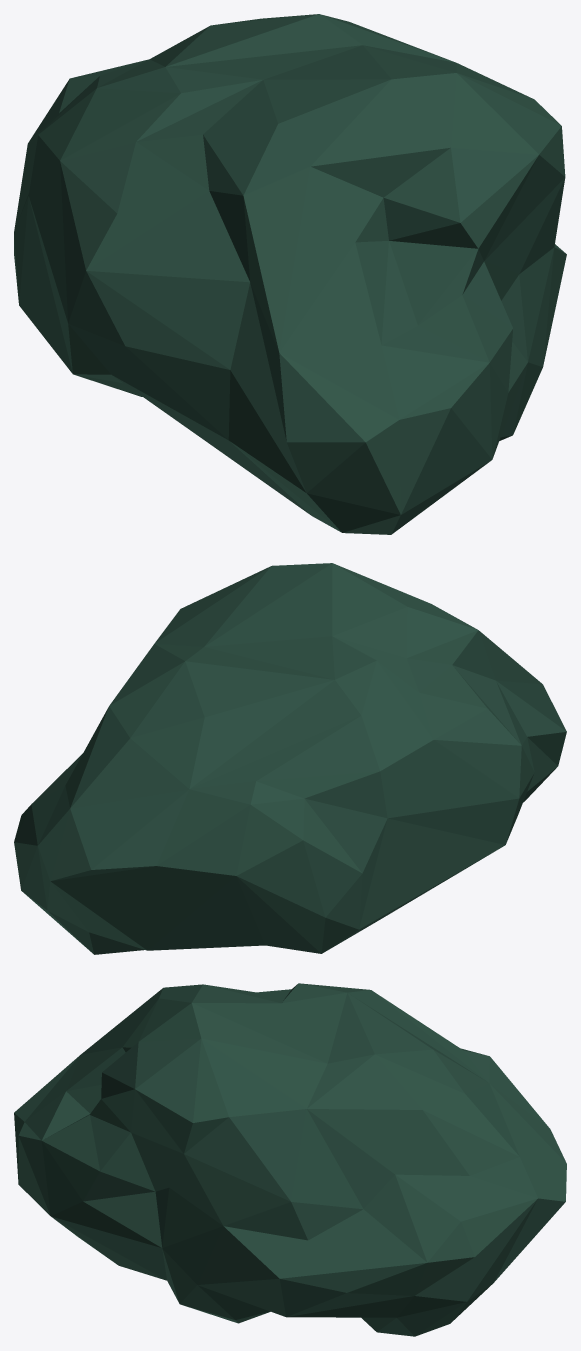
Rendered from SM_large_rock_06.fbx.
3 views of the same model, one above another, from view 1: azimuth 30°, elevation 25°; view 2: azimuth 150°, elevation 25°; view 3: azimuth 270°, elevation 25° (orthographic). The views are drawn at different scales.
Parts seen in each view (by area): view 1: large_rock_06; view 2: large_rock_06; view 3: large_rock_06.
Boxes of the visible parts, x1,y1,x2,y2 form: large_rock_06: (14, 14, 566, 534); large_rock_06: (14, 563, 566, 954); large_rock_06: (14, 983, 566, 1336).
Bounding box in the file's own units: 51.76 × 38.92 × 68.25.
